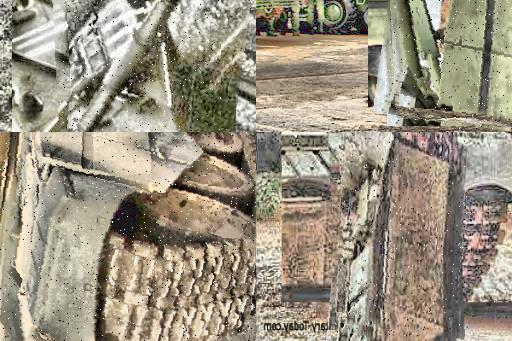tanks: (1, 133, 257, 341), (335, 133, 468, 338), (65, 1, 180, 133), (390, 1, 512, 123), (325, 1, 374, 34)
